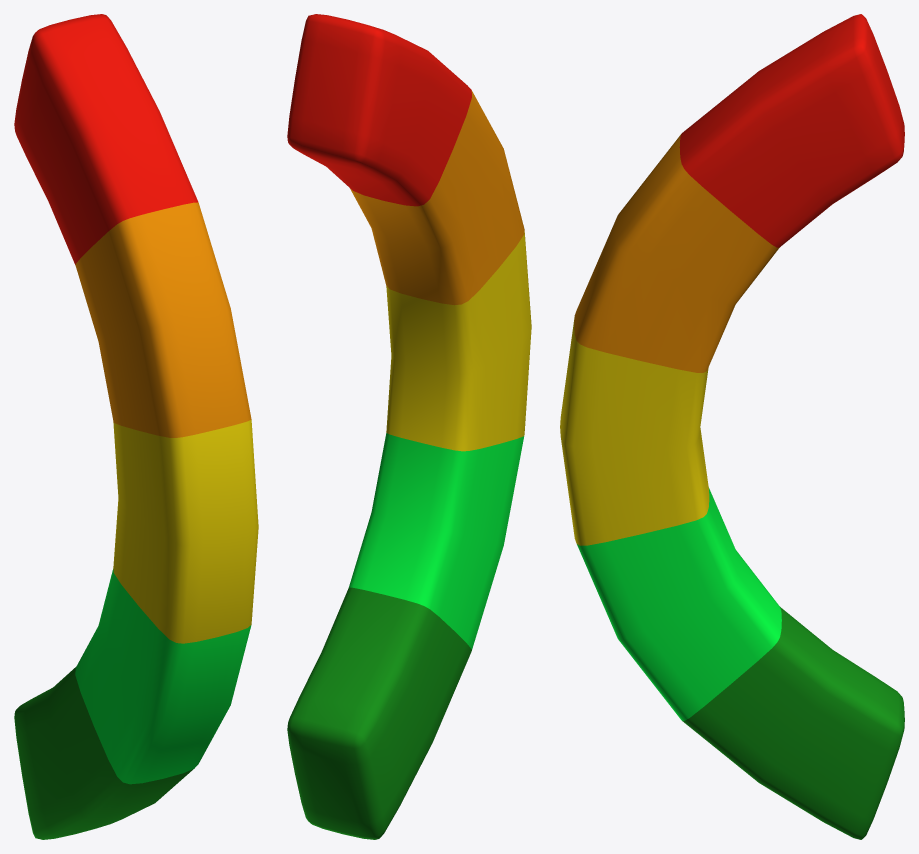
Rendered from bar_2.fbx.
3 renders of one model, left to right at view 1: azimuth 30°, elevation 25°; view 2: azimuth 150°, elevation 25°; view 3: azimuth 270°, elevation 25°, orthographic.
Parts seen in each view (by area): view 1: Cube.006; view 2: Cube.006; view 3: Cube.006.
Boxes of the visible parts, left/top/right/bottom form: Cube.006: left=14, top=14, right=258, bottom=839; Cube.006: left=287, top=14, right=531, bottom=839; Cube.006: left=560, top=14, right=904, bottom=839.
Bounding box in the file's own units: 29.4 × 264 × 103.
